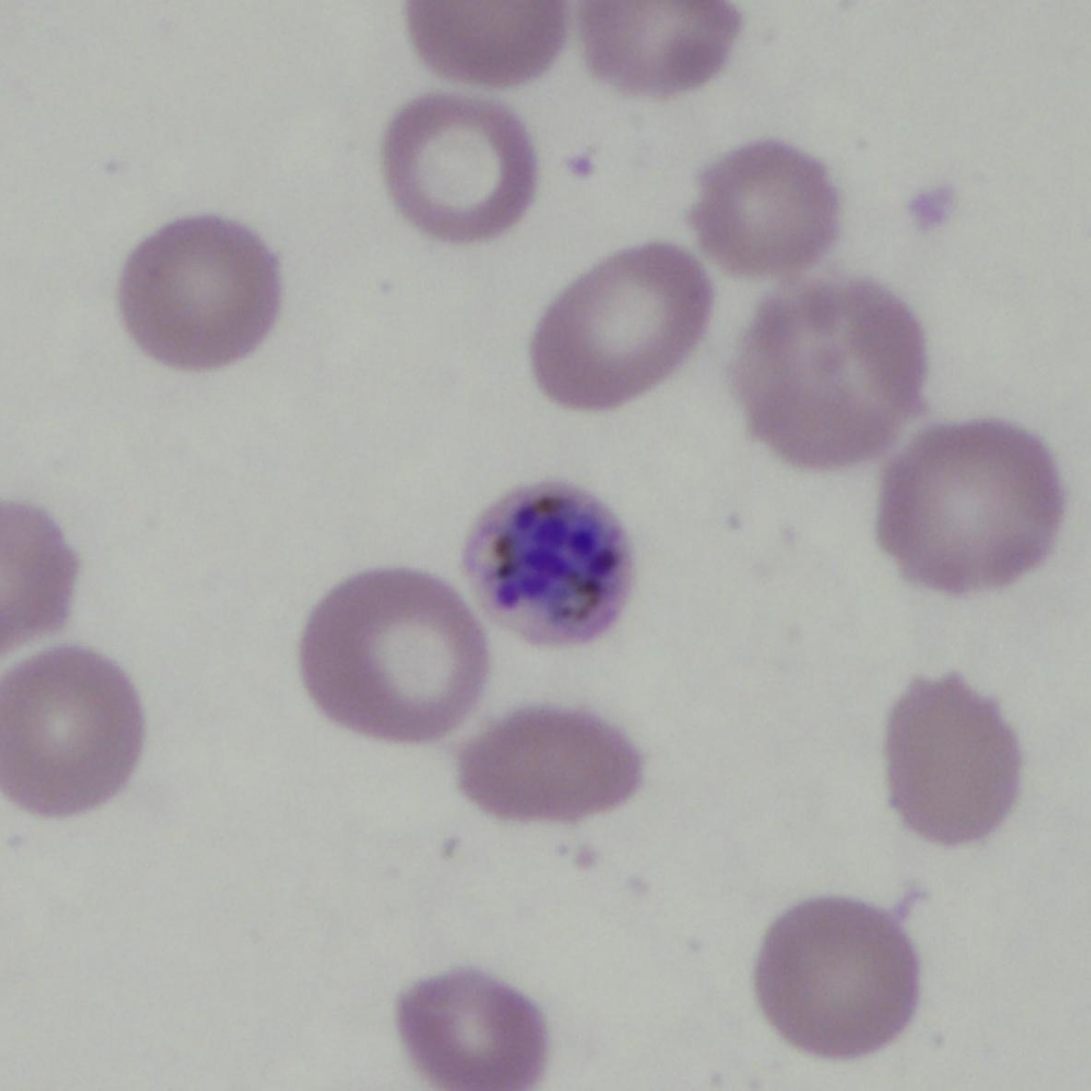Infected: (455, 468, 632, 649)
Uninfected: (741, 262, 927, 469), (879, 413, 1067, 600), (526, 235, 716, 409), (304, 567, 489, 741), (747, 896, 925, 1053), (117, 216, 294, 372), (879, 671, 1022, 842), (0, 650, 142, 815), (378, 87, 536, 233), (461, 711, 653, 830), (682, 136, 837, 282), (397, 960, 563, 1091)
